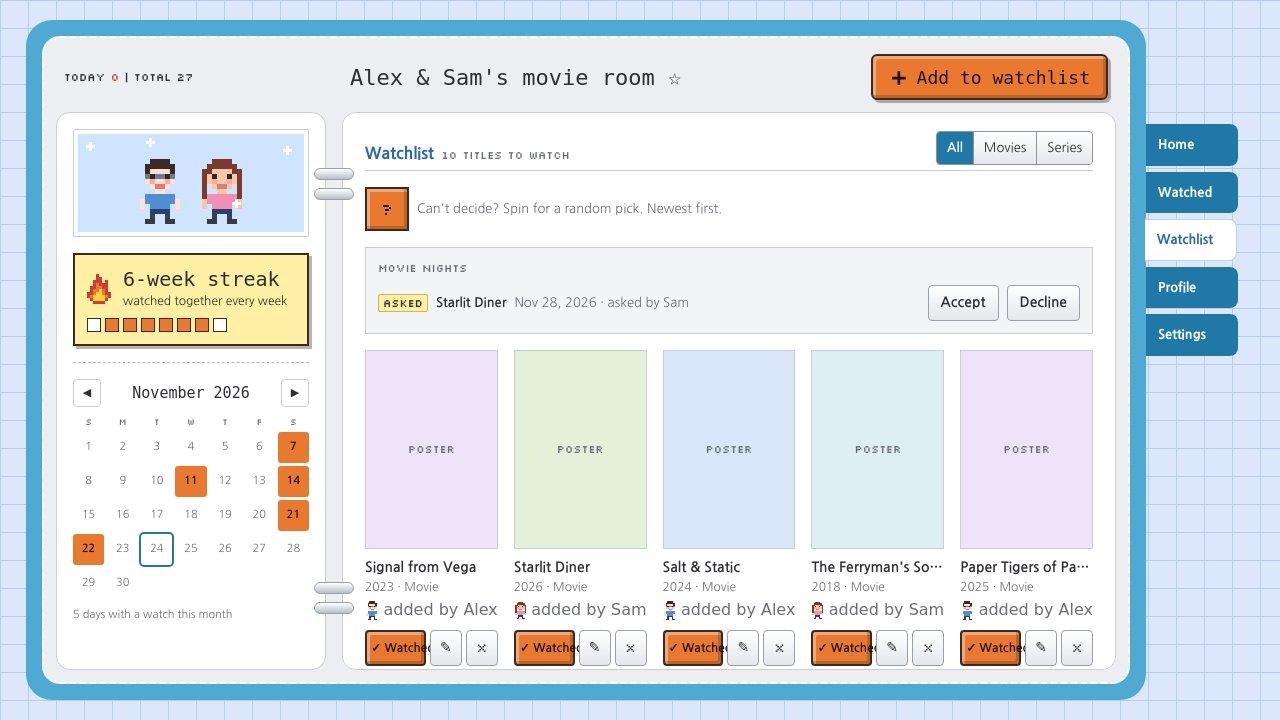
it: watchlist › marks a title watched: the card goes and the rate step opens
expect the text "10 TITLES TO WATCH" is shown: met, box left=442, top=147, right=570, bottom=164
Click the button "✓ Watched" below "2023 · Movie" at point(395, 648), box left=365, top=630, right=426, bottom=666
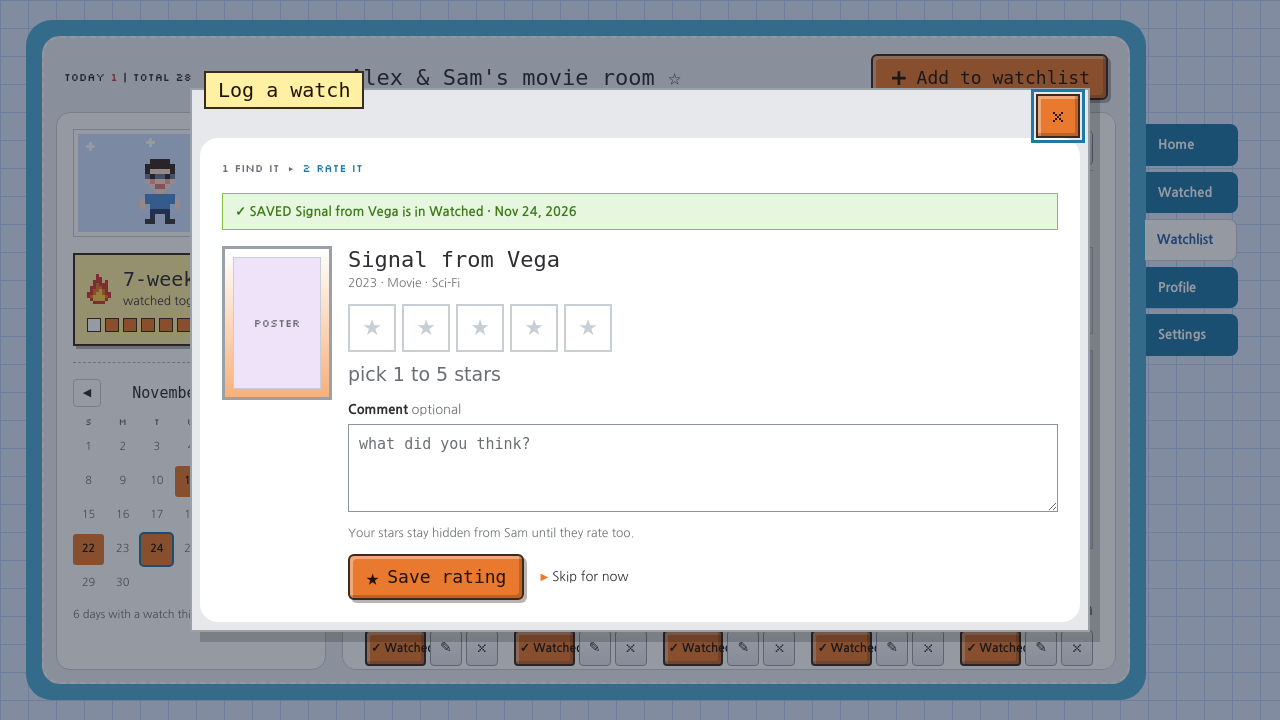
expect the text "✓ SAVED Signal from Vega is in Watched · Nov 24, 2026" is shown: met, box left=222, top=193, right=1058, bottom=230
